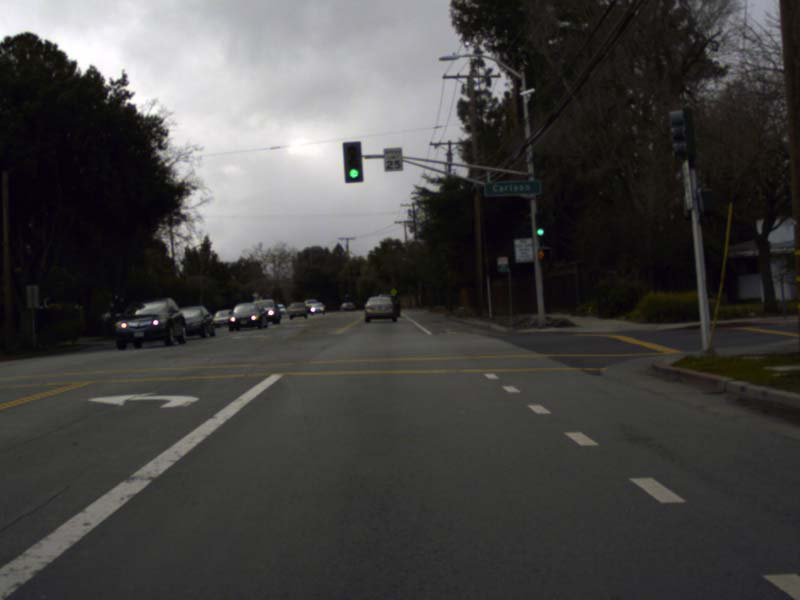Green: (342, 141, 364, 182), (533, 212, 544, 239)
